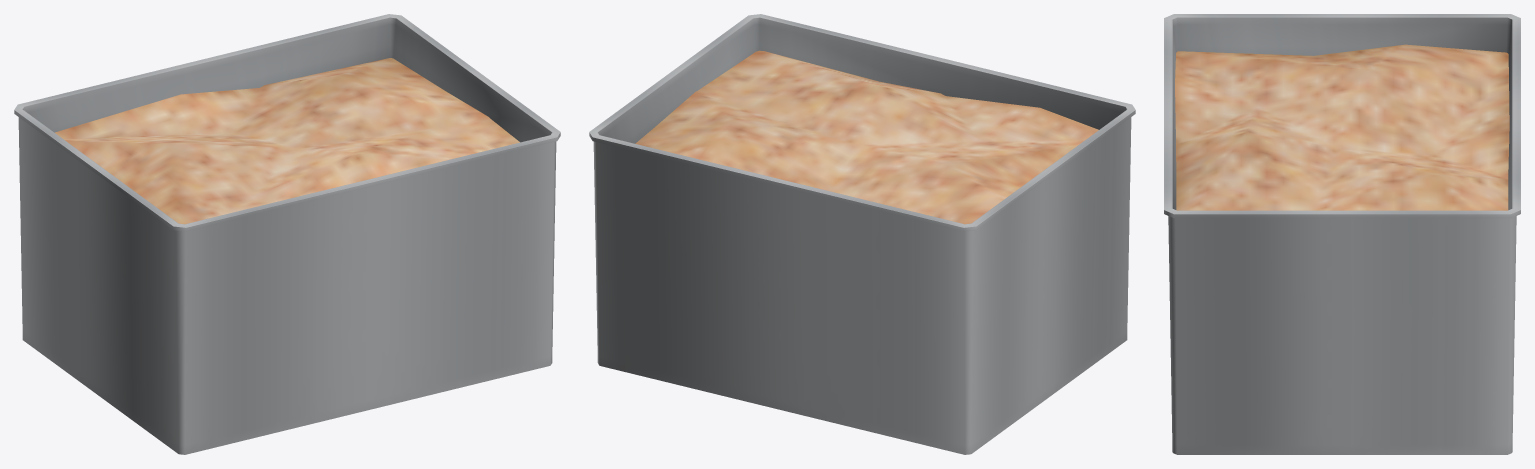
The model's file is jsf_Ingredient_DriedBonito_02.fbx.
3 renders of one model, left to right at view 1: azimuth 30°, elevation 25°; view 2: azimuth 150°, elevation 25°; view 3: azimuth 270°, elevation 25°, orthographic. The views are drawn at different scales.
Parts seen in each view (by area): view 1: jsf_Ingredient_DriedBonito_02; view 2: jsf_Ingredient_DriedBonito_02; view 3: jsf_Ingredient_DriedBonito_02.
Boxes of the visible parts, <box> form: jsf_Ingredient_DriedBonito_02: <box>14,14,560,454</box>; jsf_Ingredient_DriedBonito_02: <box>589,14,1135,454</box>; jsf_Ingredient_DriedBonito_02: <box>1164,14,1520,454</box>.
Size of the model in its own units: 23.93 by 13.62 by 18.03.
